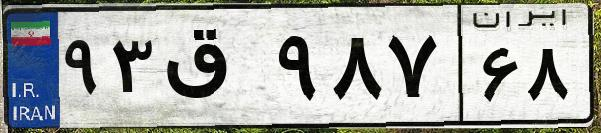3: (110, 28, 158, 98)
6: (475, 38, 525, 113)
7: (385, 28, 445, 110)
8: (330, 28, 385, 110), (525, 38, 570, 115)
9: (270, 28, 330, 110), (57, 26, 110, 100)
ق: (158, 20, 270, 120)
